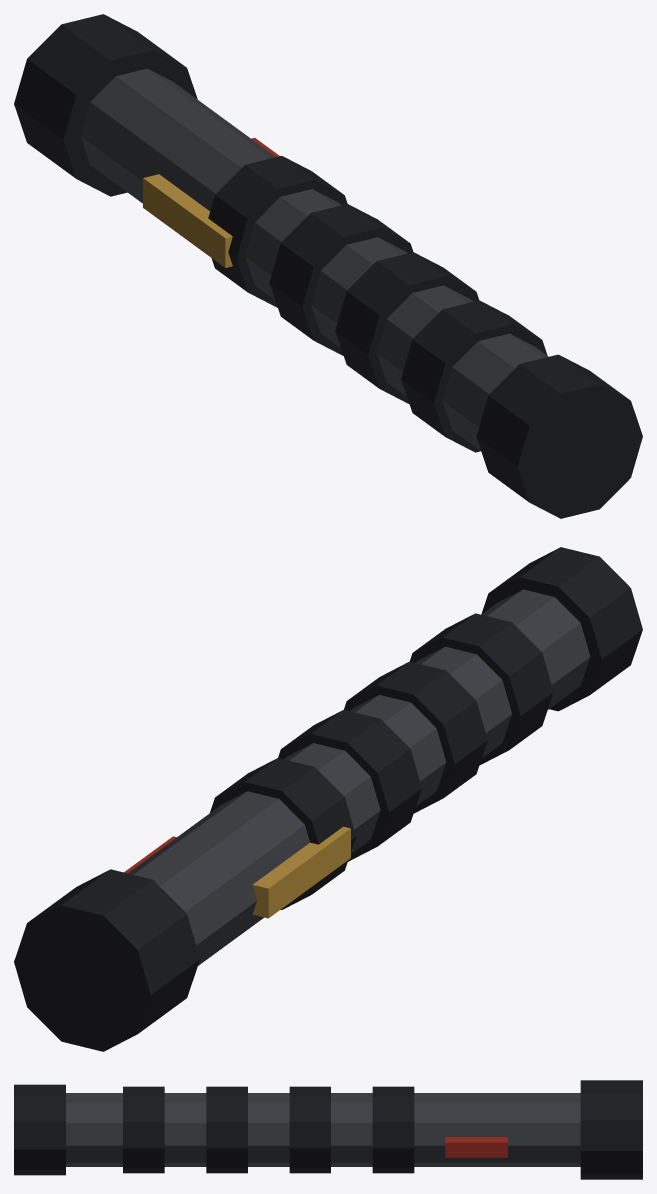
File: saber.glb
3 views of the same model, one above another, from view 1: azimuth 30°, elevation 25°; view 2: azimuth 150°, elevation 25°; view 3: azimuth 270°, elevation 25° (orthographic). The views are drawn at different scales.
Parts seen in each view (by area): view 1: saber; view 2: saber; view 3: saber.
Boxes of the visible parts, x1,y1,x2,y2 form: saber: (14,14,642,518); saber: (14,547,642,1051); saber: (14,1080,642,1179).
Bounding box in the file's own units: 0.048 × 0.0457 × 0.3025.
